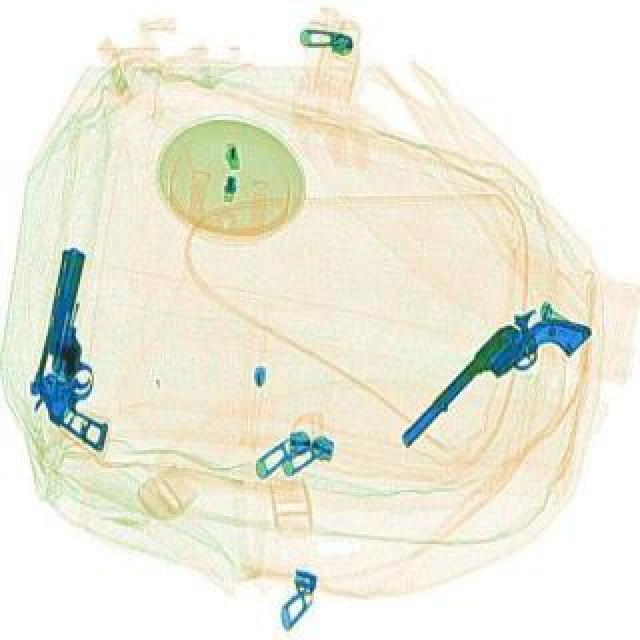gun: (394, 290, 594, 488), (18, 248, 142, 456)
